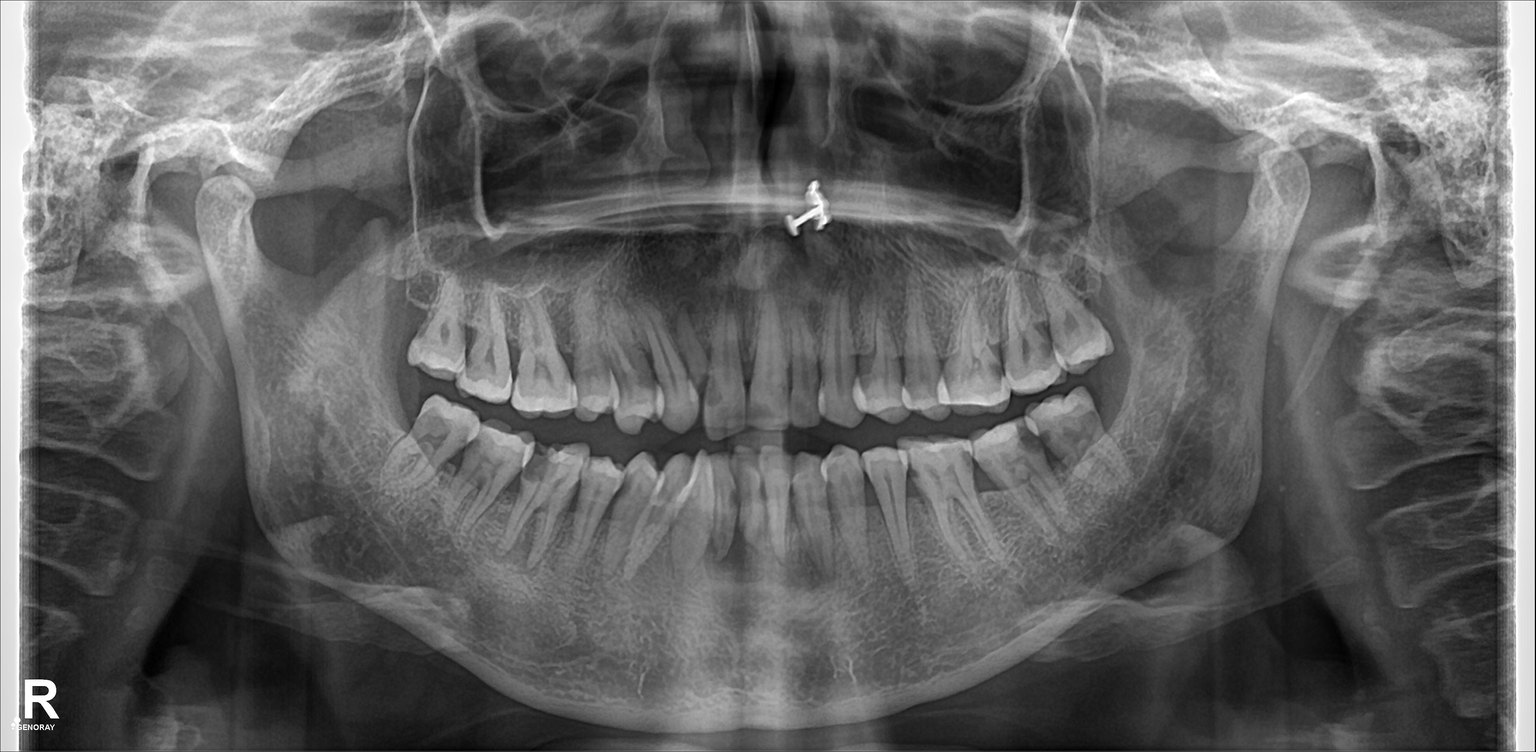Dental Caries: (410, 411, 451, 451), (521, 443, 554, 486)
Impacted Third Molar: (387, 398, 468, 495)
Missing Tooth: (1104, 369, 1146, 441)
